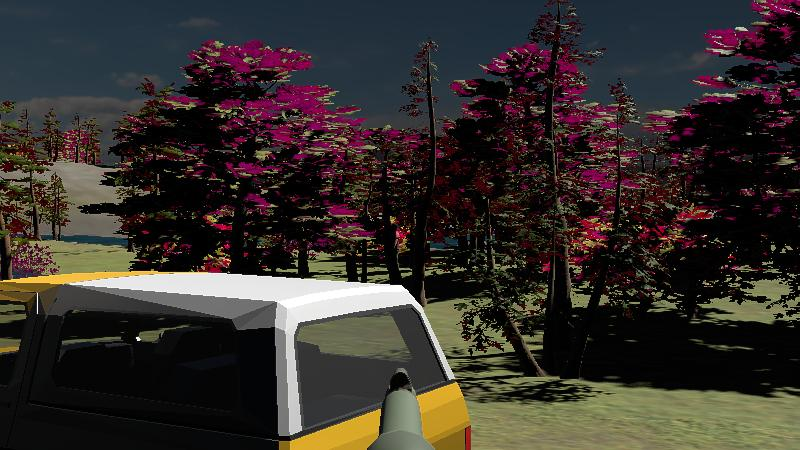car: (1, 273, 477, 450)
